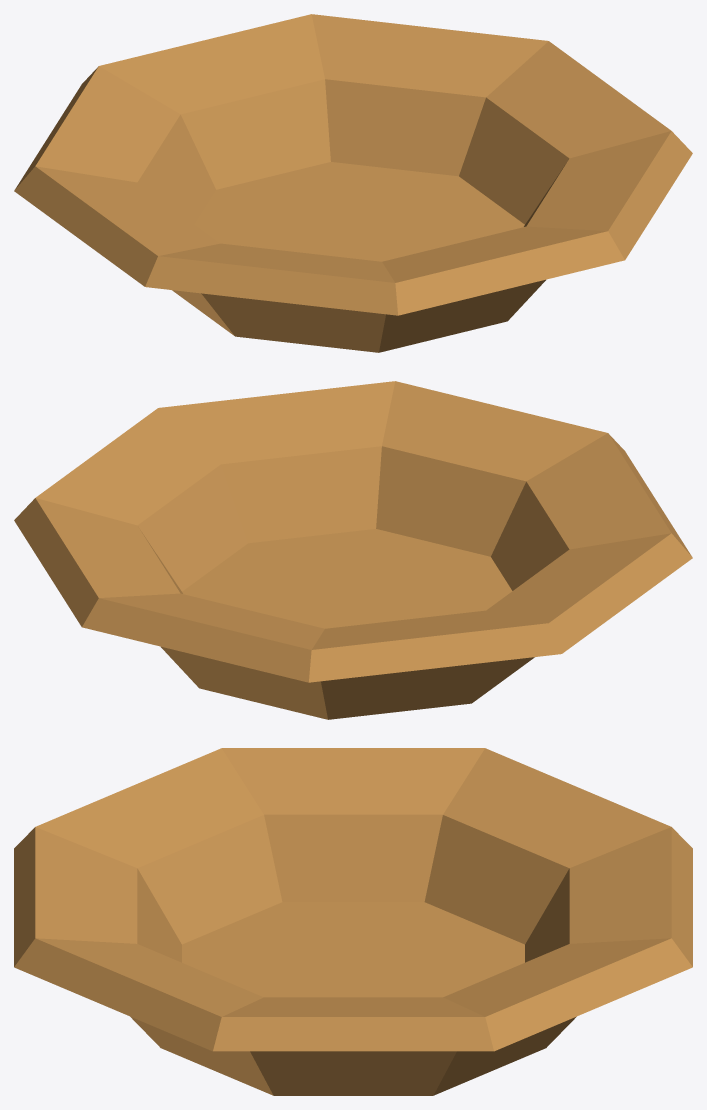
Rendered from SM_Prop_Gold_Plate_02.fbx.
3 renders of one model, top to bottom at view 1: azimuth 30°, elevation 25°; view 2: azimuth 150°, elevation 25°; view 3: azimuth 270°, elevation 25°, orthographic. The views are drawn at different scales.
Visible parts, largest first — view 1: SM_Prop_Gold_Plate_02; view 2: SM_Prop_Gold_Plate_02; view 3: SM_Prop_Gold_Plate_02.
Part boxes in pixels (<box>): SM_Prop_Gold_Plate_02: <box>14,14,692,352</box>; SM_Prop_Gold_Plate_02: <box>14,381,692,719</box>; SM_Prop_Gold_Plate_02: <box>14,748,692,1095</box>.
Bounding box in the file's own units: 52.54 × 11.26 × 52.54.
